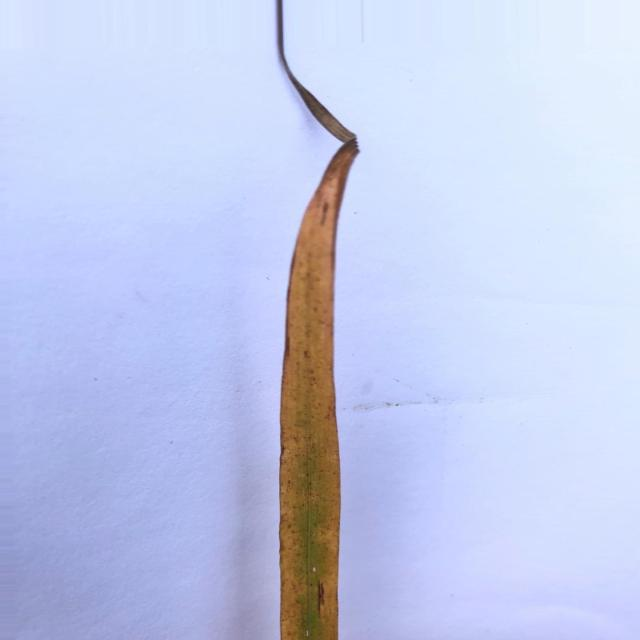Rice Tungro: (280, 160, 348, 493)
